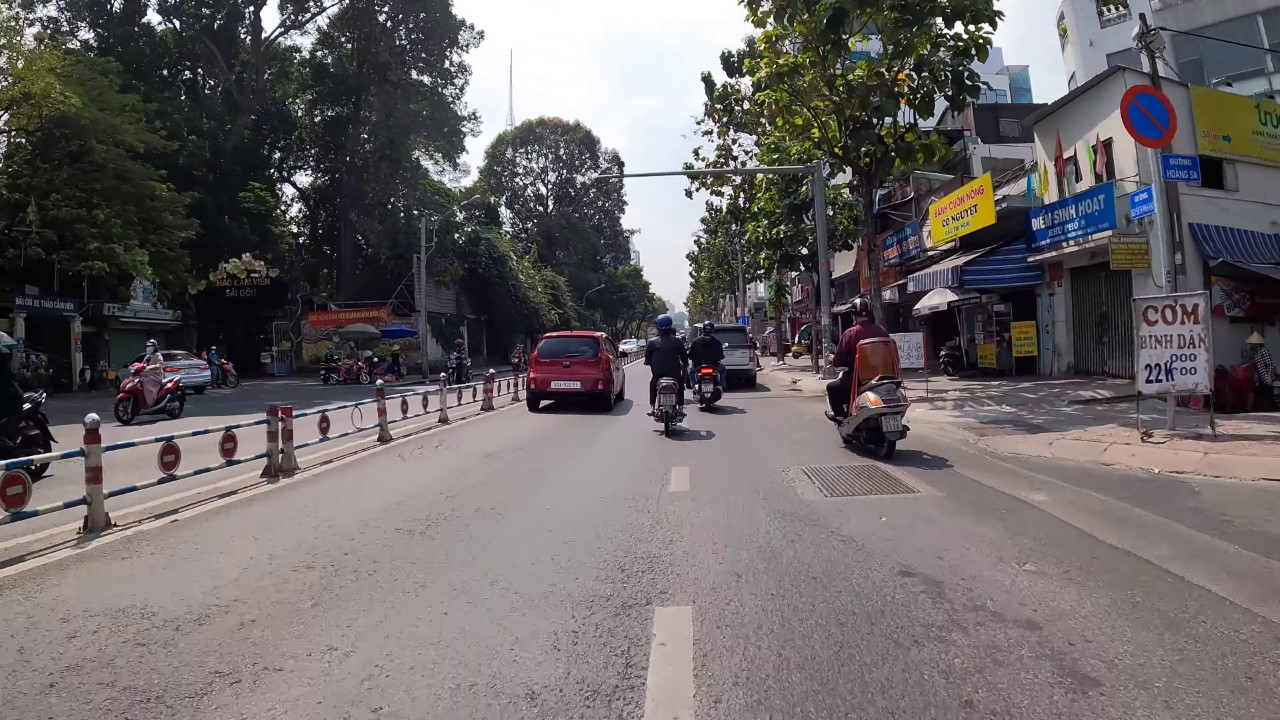cam_do_xe: (1117, 80, 1182, 152)
